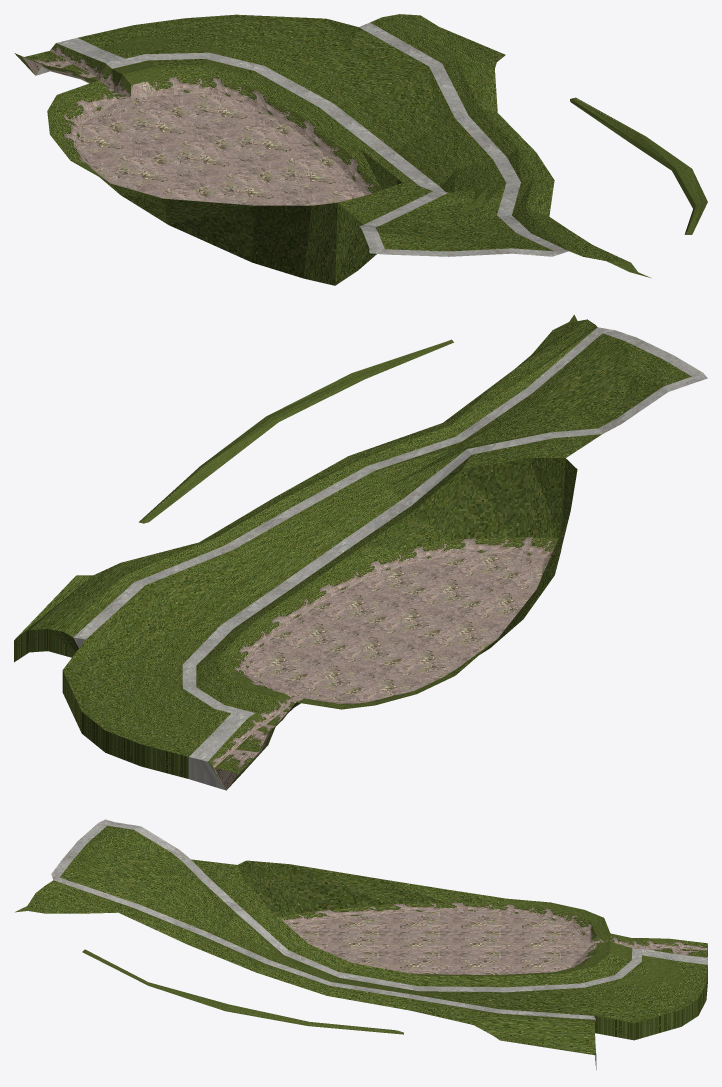
The model's file is lod_park2_sfw.obj.
The picture shows the model from 3 angles, top to bottom: view 1: azimuth 30°, elevation 25°; view 2: azimuth 150°, elevation 25°; view 3: azimuth 270°, elevation 25°; orthographic projection. The views are drawn at different scales.
Visible parts, largest first — view 1: lod_park2_sfw; view 2: lod_park2_sfw; view 3: lod_park2_sfw.
Boxes of the visible parts, left/top/right/bottom form: lod_park2_sfw: left=14, top=14, right=707, bottom=285; lod_park2_sfw: left=14, top=314, right=707, bottom=790; lod_park2_sfw: left=15, top=819, right=707, bottom=1069.
Size of the model in its own units: 72.01 by 26.55 by 144.
Materials: 4 (4 with a texture image).
